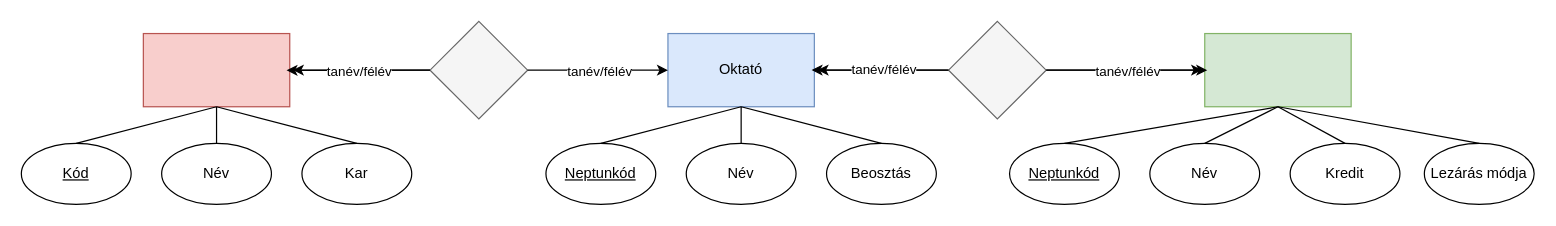
Image size: 1556x226. Some labels were removed from this diagram. The box of each missing label's shape, as (x1, y1, x2, y2) in pixels:
O-TGY: (947, 20, 1046, 119)
Tanszék: (142, 32, 290, 107)
Tantárgy: (1204, 32, 1351, 107)
TSZ-O: (429, 20, 528, 119)
